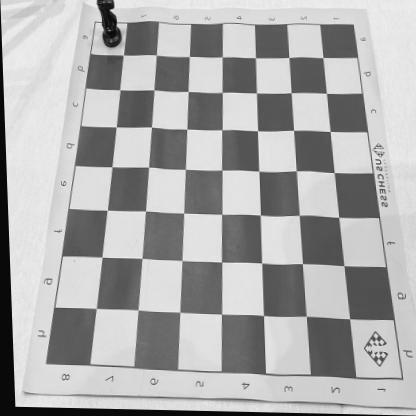black-knight: (98, 0, 122, 51)
